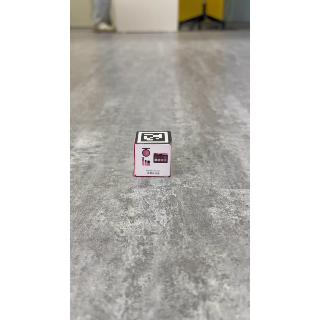Expired_Cosmetic: (134, 144, 171, 178)
